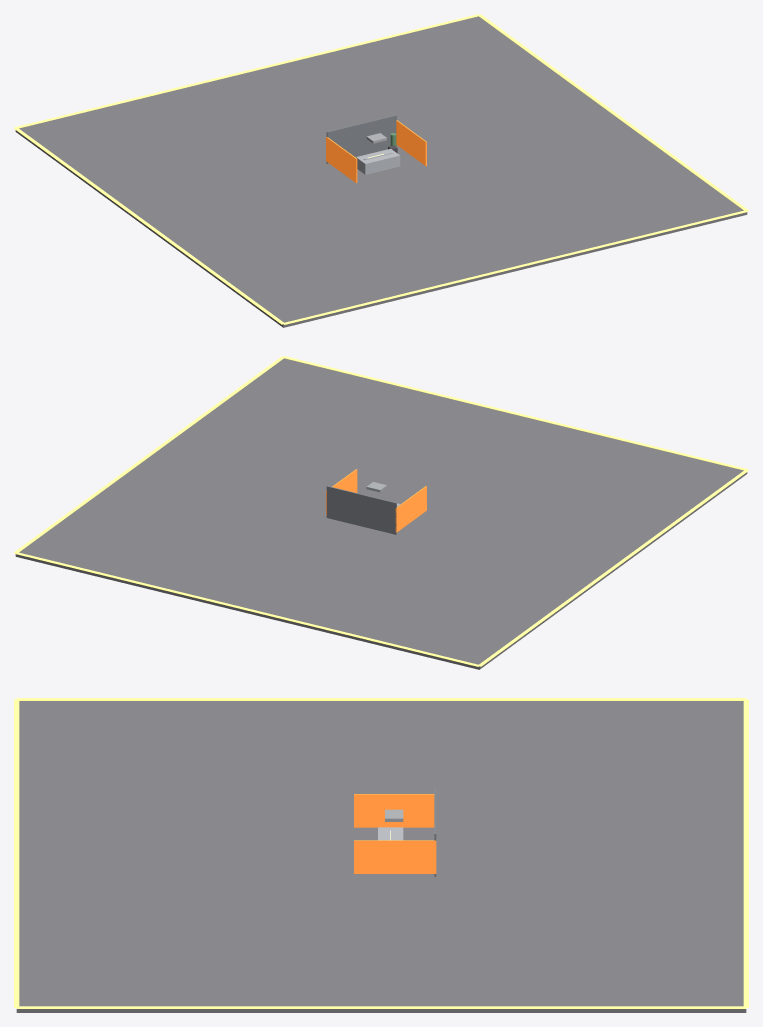
The model's file is sim-weld-bead.glb.
3 views of the same model, one above another, from view 1: azimuth 30°, elevation 25°; view 2: azimuth 150°, elevation 25°; view 3: azimuth 270°, elevation 25° (orthographic). The views are drawn at different scales.
Parts seen in each view (by area): view 1: Weld Bead Run; view 2: Weld Bead Run; view 3: Weld Bead Run.
Part boxes in pixels (<box>): Weld Bead Run: <box>14,14,748,327</box>; Weld Bead Run: <box>14,356,748,669</box>; Weld Bead Run: <box>14,698,748,1012</box>.
Size of the model in its own units: 40.3 by 2.9 by 40.3.
